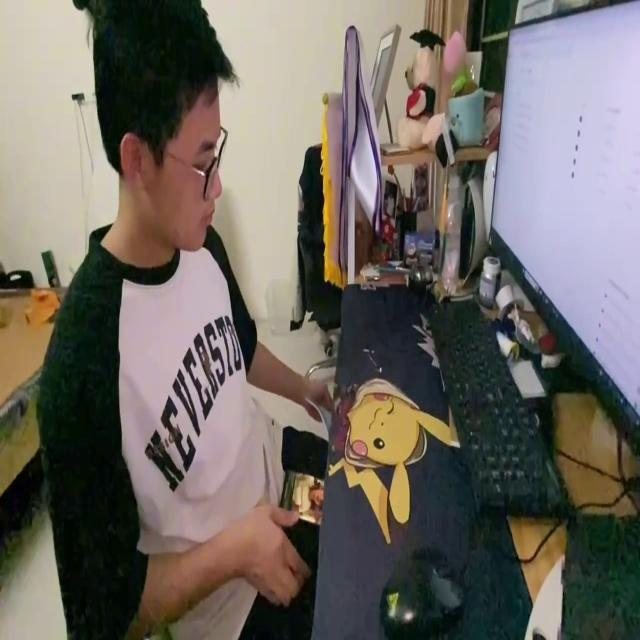laptop: (485, 0, 640, 471)
phone: (281, 462, 327, 521)
student: (33, 0, 334, 634)
